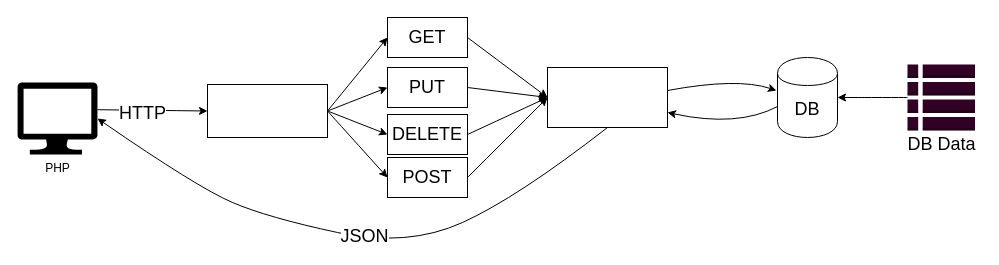
This 999x265 diagram has some shape labels left out. The shapes that lost their labels are listed below. From the top down, each one's centre as x and y in pixels, then its label:
point 267,111: Router
point 607,97: API
